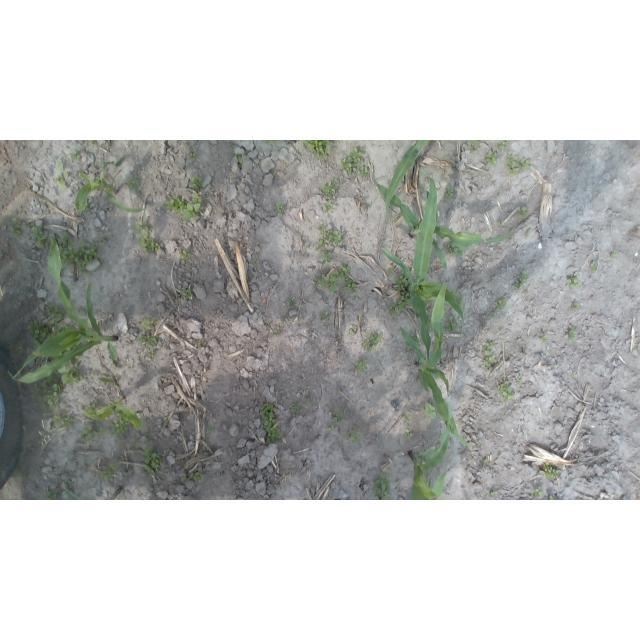Maize: (6, 235, 120, 384), (369, 171, 527, 272), (380, 178, 464, 362), (397, 281, 472, 447), (410, 403, 451, 500), (383, 141, 429, 220), (77, 378, 143, 431), (76, 170, 149, 214), (61, 483, 121, 500)
Weeds: (164, 191, 205, 221), (75, 243, 104, 276), (139, 443, 167, 475), (135, 219, 161, 253), (260, 401, 280, 444), (31, 385, 61, 413), (26, 318, 50, 348), (339, 147, 365, 174), (55, 230, 75, 265), (299, 140, 331, 160), (372, 472, 392, 501), (57, 362, 83, 384), (505, 153, 531, 175), (80, 424, 106, 443), (53, 161, 70, 190), (31, 224, 49, 249), (45, 302, 66, 322), (539, 461, 561, 480), (362, 332, 384, 351), (100, 463, 121, 482), (498, 381, 515, 404), (50, 323, 74, 339), (58, 340, 84, 354), (320, 179, 340, 197), (111, 419, 131, 437), (328, 409, 344, 431), (389, 299, 408, 317), (444, 243, 464, 260), (449, 290, 465, 311), (52, 413, 73, 429), (137, 332, 159, 347), (325, 228, 343, 245), (394, 274, 410, 293), (514, 271, 529, 289), (139, 317, 158, 331), (10, 218, 24, 237), (188, 174, 204, 190), (348, 428, 363, 444), (329, 272, 340, 293), (336, 264, 352, 278), (424, 402, 437, 419), (446, 315, 458, 333), (344, 278, 357, 293), (356, 357, 369, 372), (182, 287, 195, 301), (400, 289, 413, 303), (567, 275, 580, 289), (320, 251, 333, 265), (315, 273, 328, 287), (531, 488, 546, 500), (45, 488, 60, 500), (484, 339, 495, 355), (486, 150, 497, 166), (469, 140, 482, 152), (483, 356, 495, 368), (568, 325, 577, 341), (46, 372, 58, 384), (324, 200, 336, 212), (446, 187, 457, 200), (315, 239, 326, 252), (404, 429, 415, 441), (276, 200, 285, 213), (484, 490, 498, 498), (16, 343, 27, 353), (126, 178, 136, 189), (87, 403, 97, 414), (496, 300, 508, 309), (284, 300, 296, 309), (193, 471, 202, 483), (520, 206, 527, 221), (359, 166, 369, 176), (591, 261, 600, 272), (497, 141, 508, 150), (411, 333, 420, 344), (182, 250, 191, 261), (540, 334, 549, 344), (408, 343, 417, 353), (292, 403, 301, 413), (73, 151, 82, 161), (40, 435, 48, 446), (235, 153, 243, 164), (349, 325, 357, 335), (188, 151, 196, 161), (281, 316, 292, 323), (148, 350, 157, 358), (303, 398, 313, 405), (206, 427, 214, 435), (252, 258, 260, 266), (183, 474, 190, 483), (387, 264, 393, 274), (497, 220, 505, 227), (405, 412, 412, 420), (611, 251, 617, 260), (322, 311, 331, 317), (503, 342, 513, 347), (573, 303, 580, 310), (317, 225, 324, 232), (516, 379, 524, 385), (265, 140, 276, 144), (483, 460, 489, 467), (65, 477, 72, 483), (549, 495, 556, 500), (75, 356, 81, 361), (164, 417, 169, 423), (352, 297, 357, 302), (192, 340, 197, 344)
